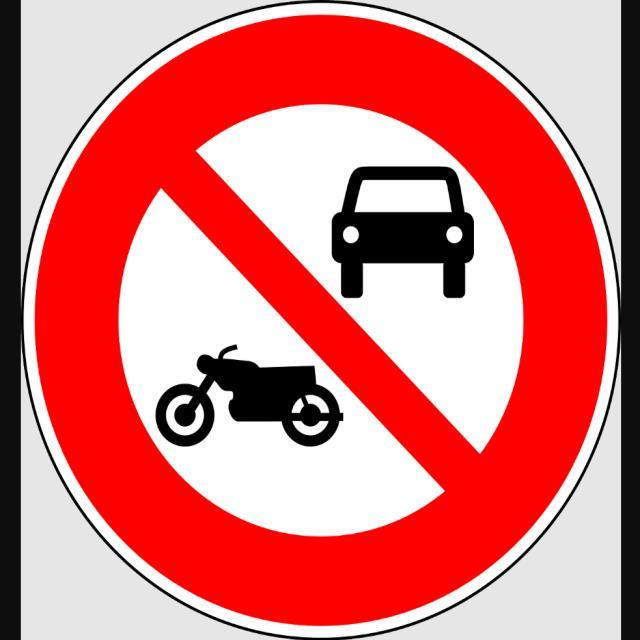all motor vehicle prohibited: (37, 16, 609, 625)
